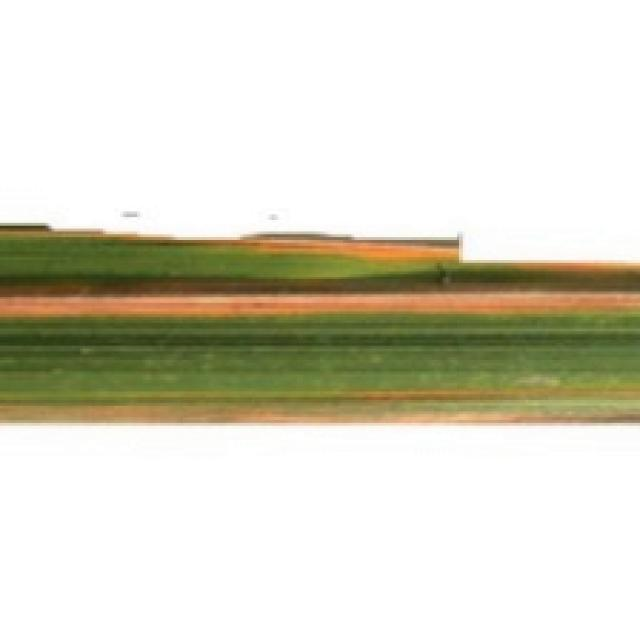Unhealthy: (0, 280, 640, 320), (0, 224, 461, 264), (0, 403, 640, 425), (502, 261, 640, 277), (354, 389, 502, 403)
